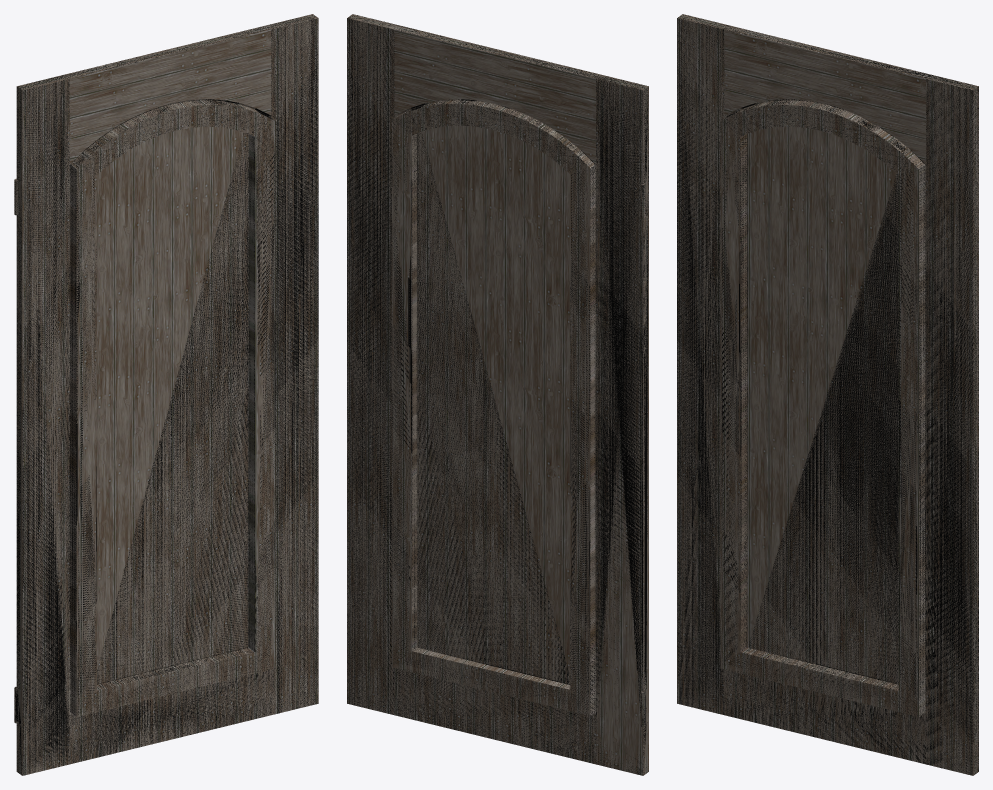
The model's file is Shelter_Door.fbx.
The picture shows the model from 3 angles, left to right: view 1: azimuth 30°, elevation 25°; view 2: azimuth 150°, elevation 25°; view 3: azimuth 330°, elevation 25°; orthographic projection.
Visible parts, largest first — view 1: Group4; view 2: Group4; view 3: Group4.
Part boxes in pixels (bbox=[...]): Group4: bbox=[14, 14, 318, 775]; Group4: bbox=[347, 14, 648, 775]; Group4: bbox=[677, 14, 978, 775].
Bounding box in the file's own units: 435 × 956 × 38.51.
